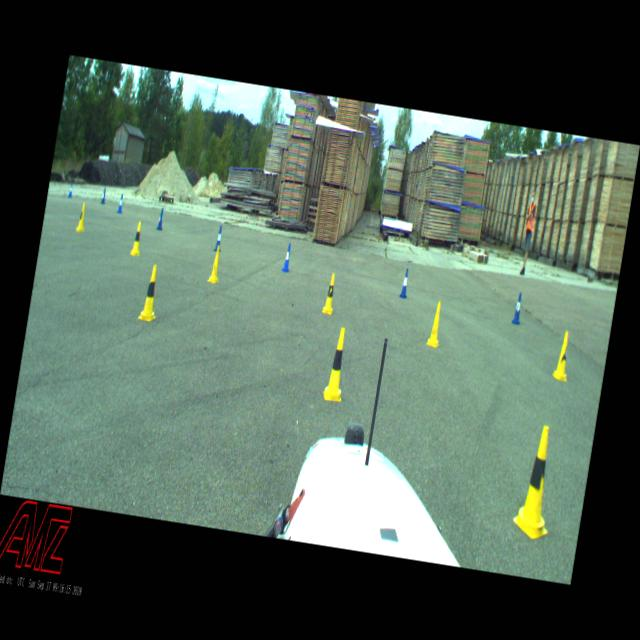blue_cone: (511, 292, 525, 326), (399, 268, 411, 300), (282, 242, 294, 273), (213, 224, 224, 253), (156, 207, 166, 231), (117, 192, 125, 215), (100, 187, 108, 204), (67, 182, 74, 199)
yellow_cone: (510, 423, 564, 542), (322, 326, 352, 402), (137, 262, 164, 323), (552, 329, 574, 382), (426, 300, 446, 348), (322, 272, 339, 316), (207, 243, 224, 284), (130, 220, 145, 257), (75, 201, 88, 233)
